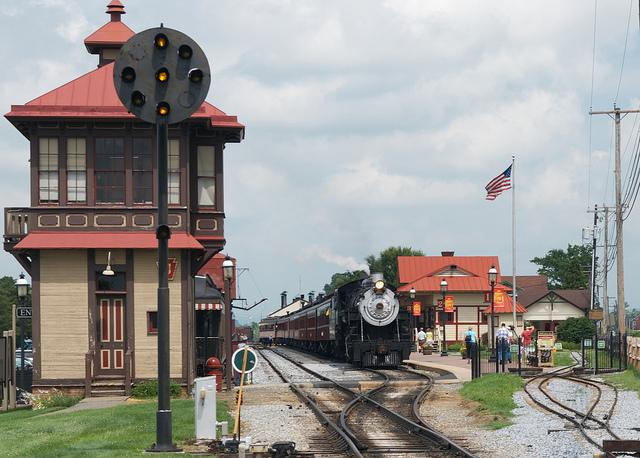Train: (259, 271, 414, 371)
